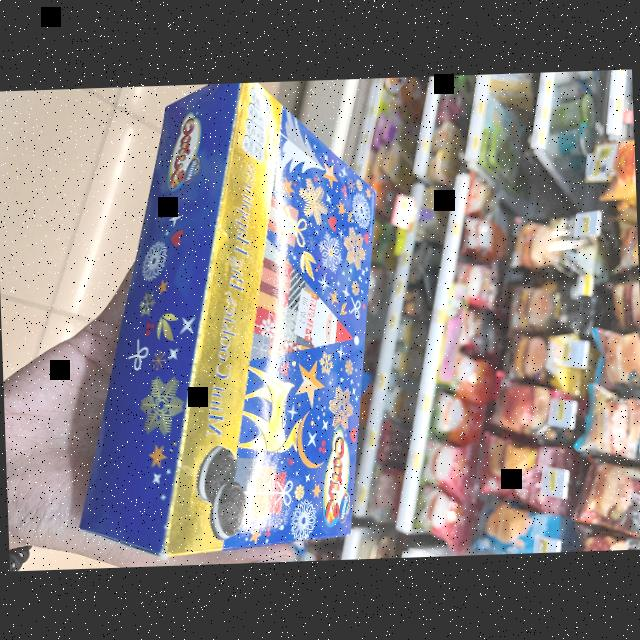cardboard_box: (44, 78, 410, 566)
